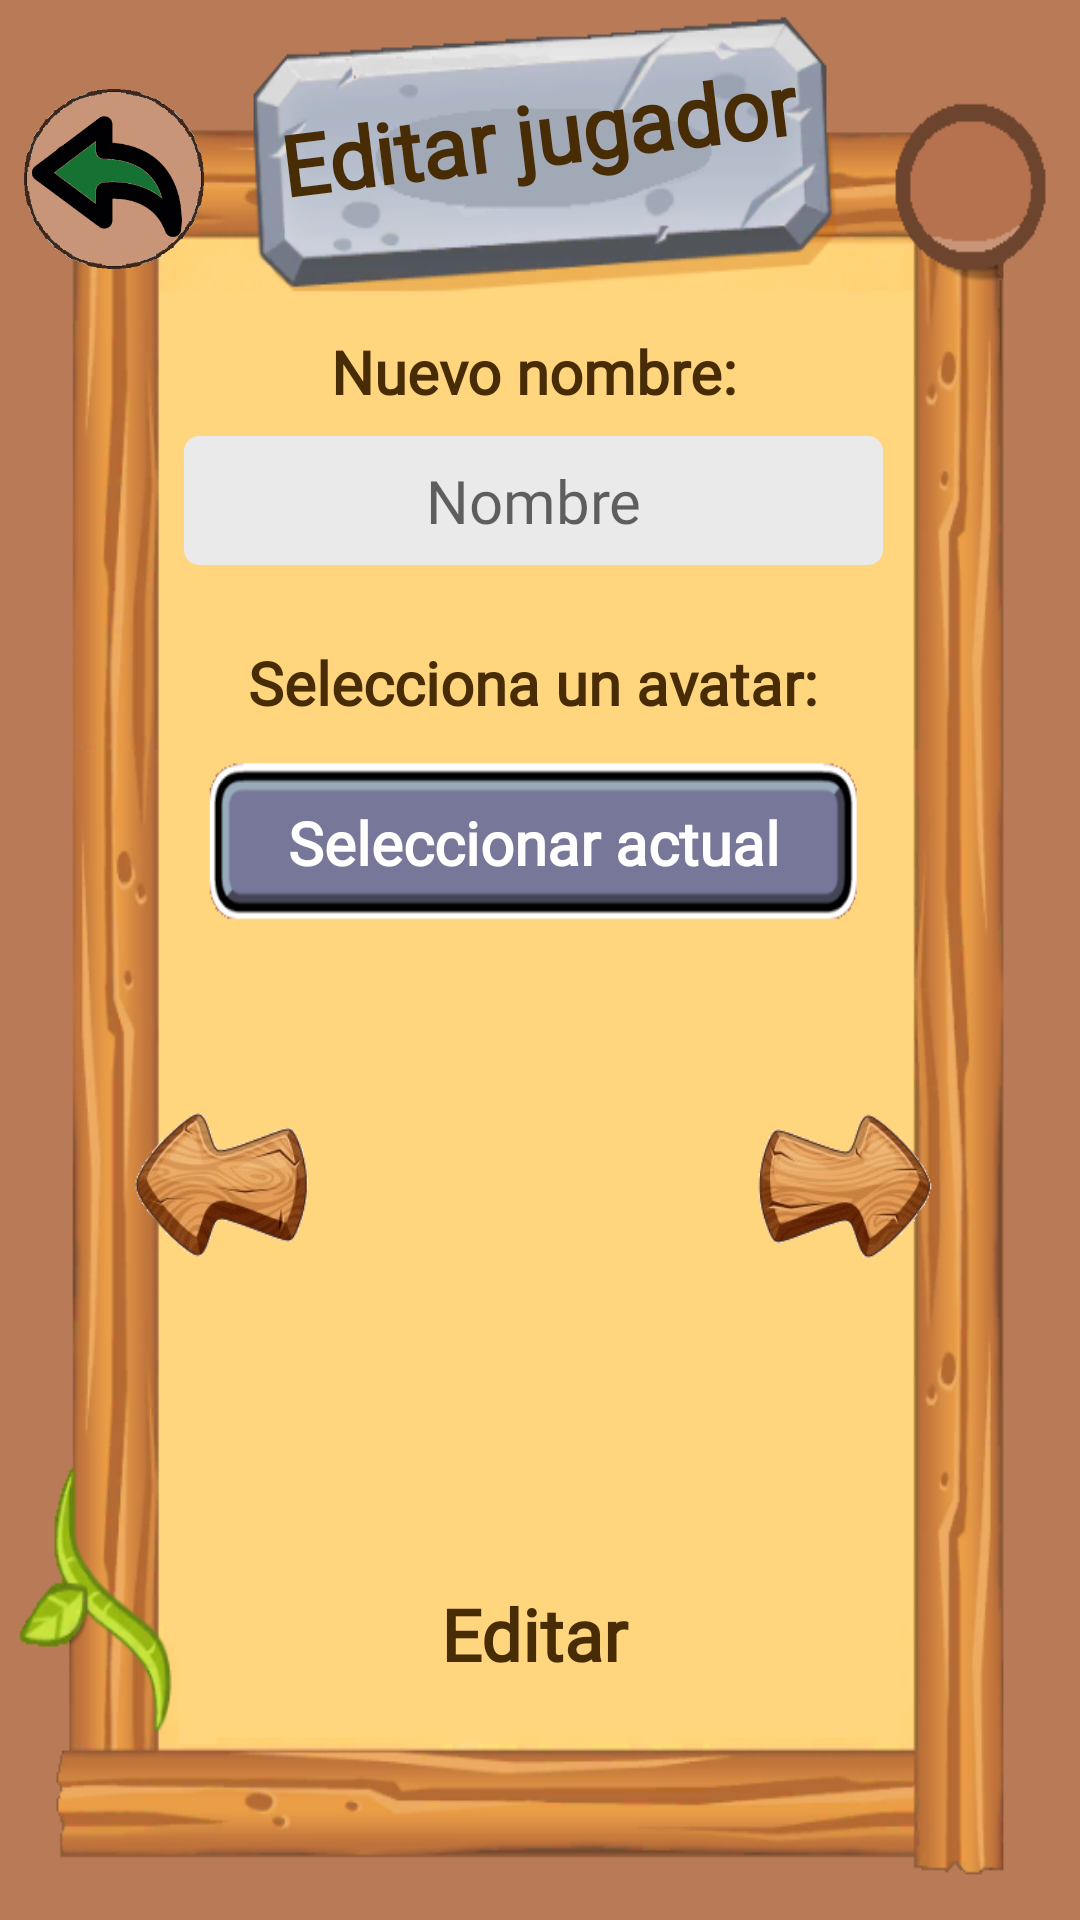

Named icons in this screenshot (1080×1920) and their bounding boxes, (x1, y1, x2, y2):
back: (24, 89, 204, 269)
next: (758, 1112, 935, 1262)
previous: (133, 1112, 308, 1262)
